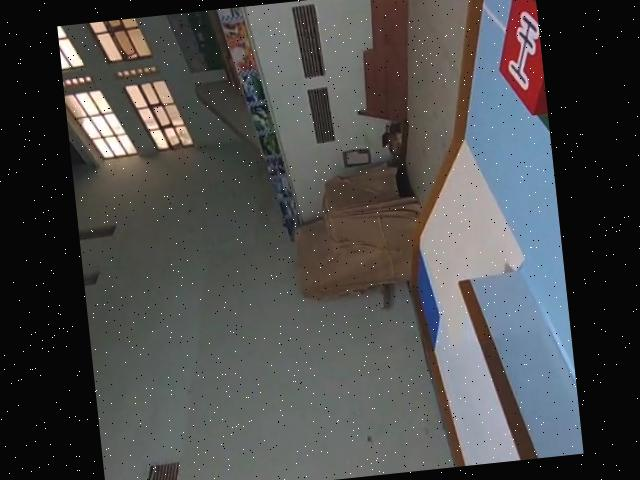R2 Fake: (486, 0, 548, 120)
